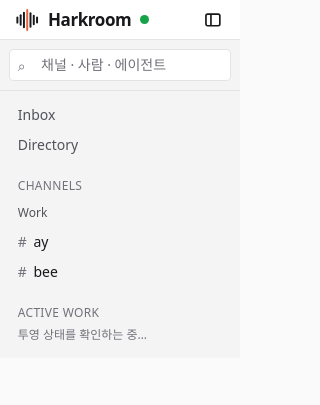
Test: 사이드바의 섹션 (#157) › 섹션 이름 바꾸기 (#323) › "이름 바꾸기" 를 선택하면 인라인 입력창이 나타난다
Right-click the text with test id "section-header-Work" at (33, 212), box [18,204,47,221]
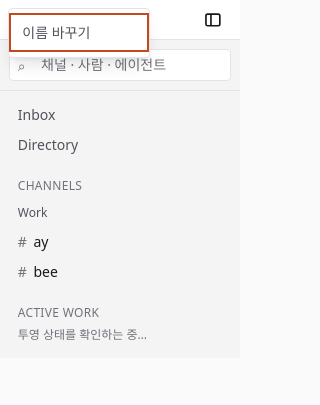
Click the menu item "이름 바꾸기". click: (79, 33)
box: [9,13,149,52]
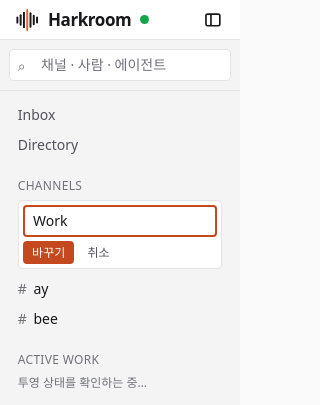
expect the field showing "Work" is shown: met, box [23,205,217,237]
